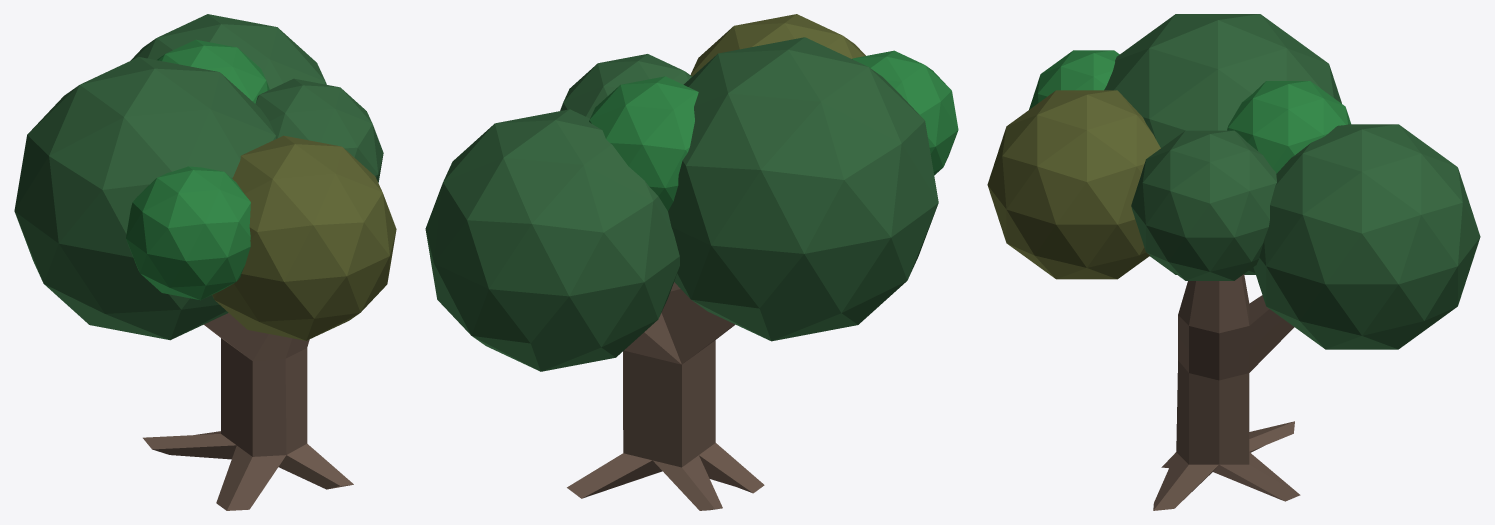
File: Tree01.fbx
3 renders of one model, left to right at view 1: azimuth 30°, elevation 25°; view 2: azimuth 150°, elevation 25°; view 3: azimuth 270°, elevation 25°, orthographic. The views are drawn at different scales.
Visible parts, largest first — view 1: Tree, Log; view 2: Tree, Log; view 3: Tree, Log.
Part boxes in pixels (x1,y1,x2,y2): Tree: (14, 14, 396, 340); Log: (143, 313, 353, 510); Tree: (425, 14, 958, 371); Log: (567, 282, 764, 510); Tree: (987, 14, 1480, 349); Log: (1153, 274, 1300, 510).
Size of the model in its own units: 1323 by 1532 by 1631.
